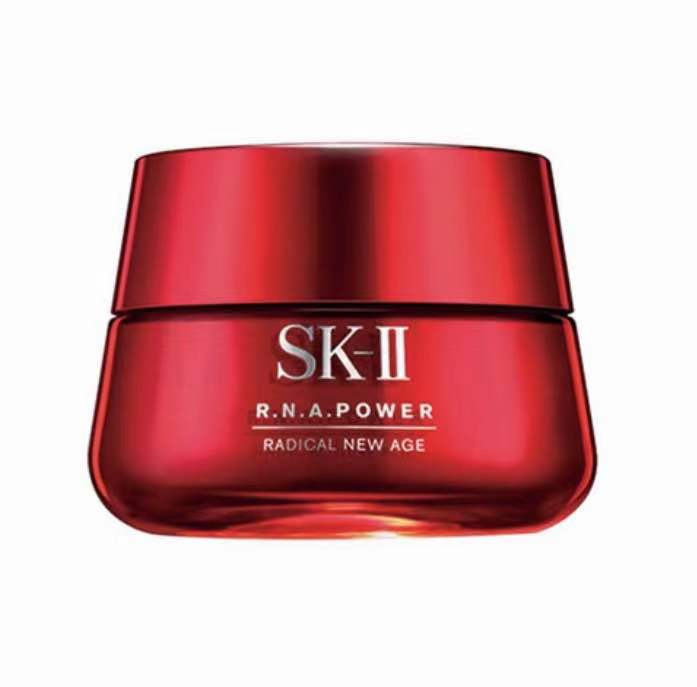cosmetic: (103, 146, 583, 526)
